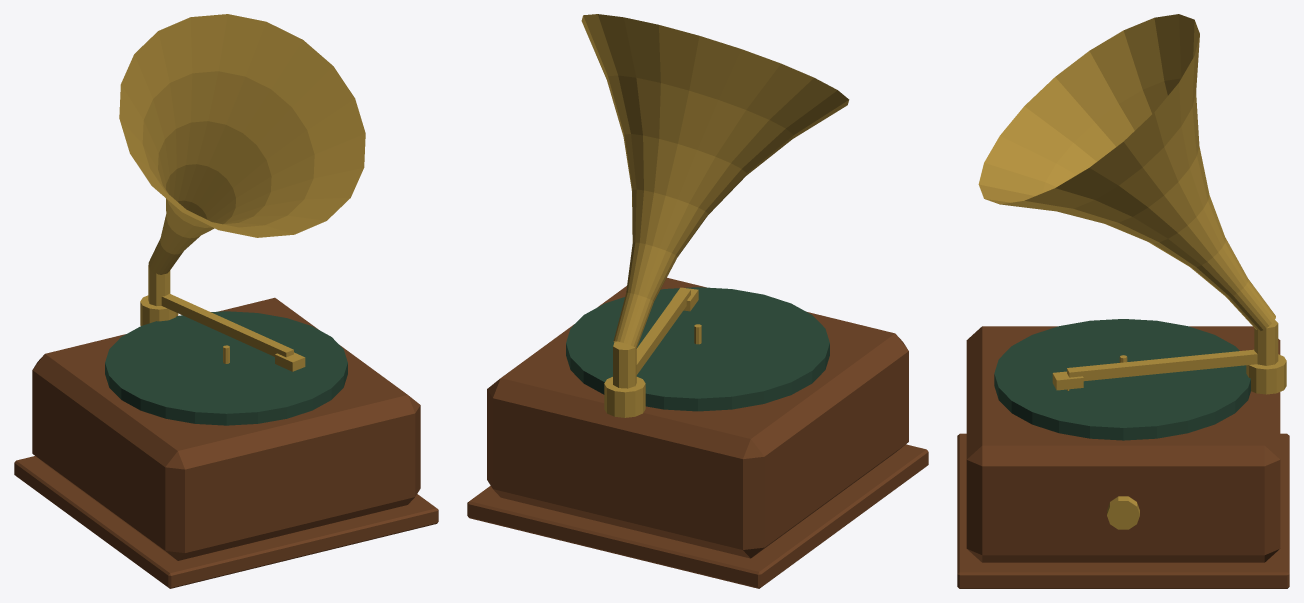
The model's file is Prop_YTM_RecordPlayer.glb.
The picture shows the model from 3 angles, left to right: view 1: azimuth 30°, elevation 25°; view 2: azimuth 150°, elevation 25°; view 3: azimuth 270°, elevation 25°; orthographic projection. The views are drawn at different scales.
Visible parts, largest first — view 1: Prop_YTM_RecordPlayer; view 2: Prop_YTM_RecordPlayer; view 3: Prop_YTM_RecordPlayer.
Boxes of the visible parts, bbox=[...] form: Prop_YTM_RecordPlayer: bbox=[14, 14, 438, 588]; Prop_YTM_RecordPlayer: bbox=[467, 14, 928, 588]; Prop_YTM_RecordPlayer: bbox=[957, 14, 1289, 588].
Size of what is drawn, in the model's own units: 0.362 by 0.581 by 0.36.
